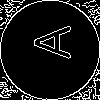A: (25, 25, 70, 59)
